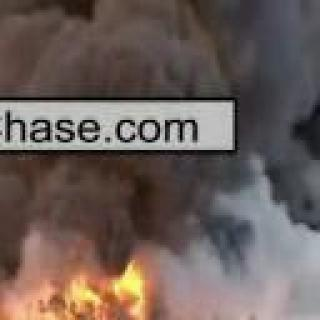fire: (53, 239, 159, 320), (0, 274, 4, 320)
